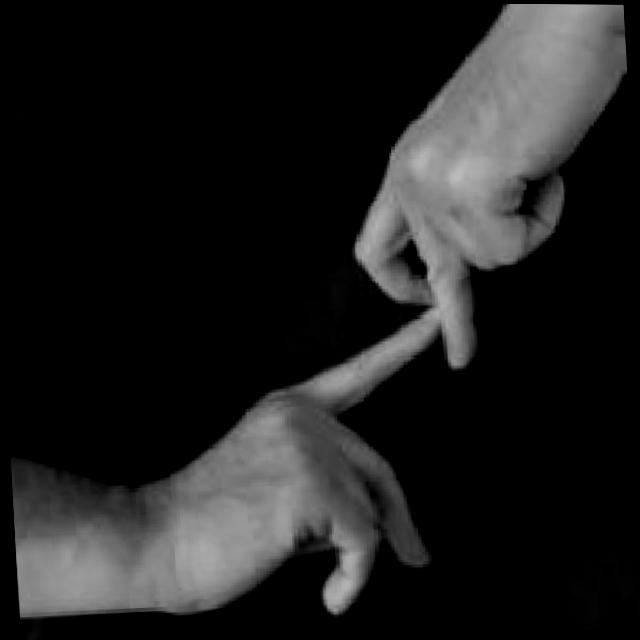R: (135, 88, 596, 639)
